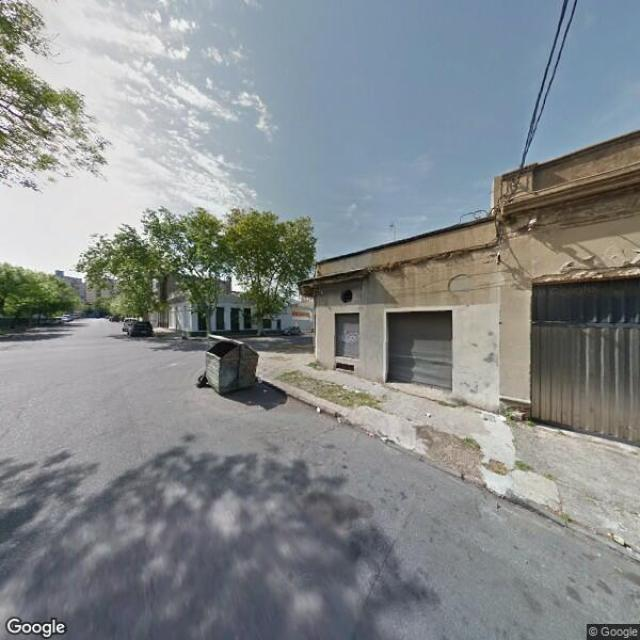garbage container: (194, 335, 270, 400)
